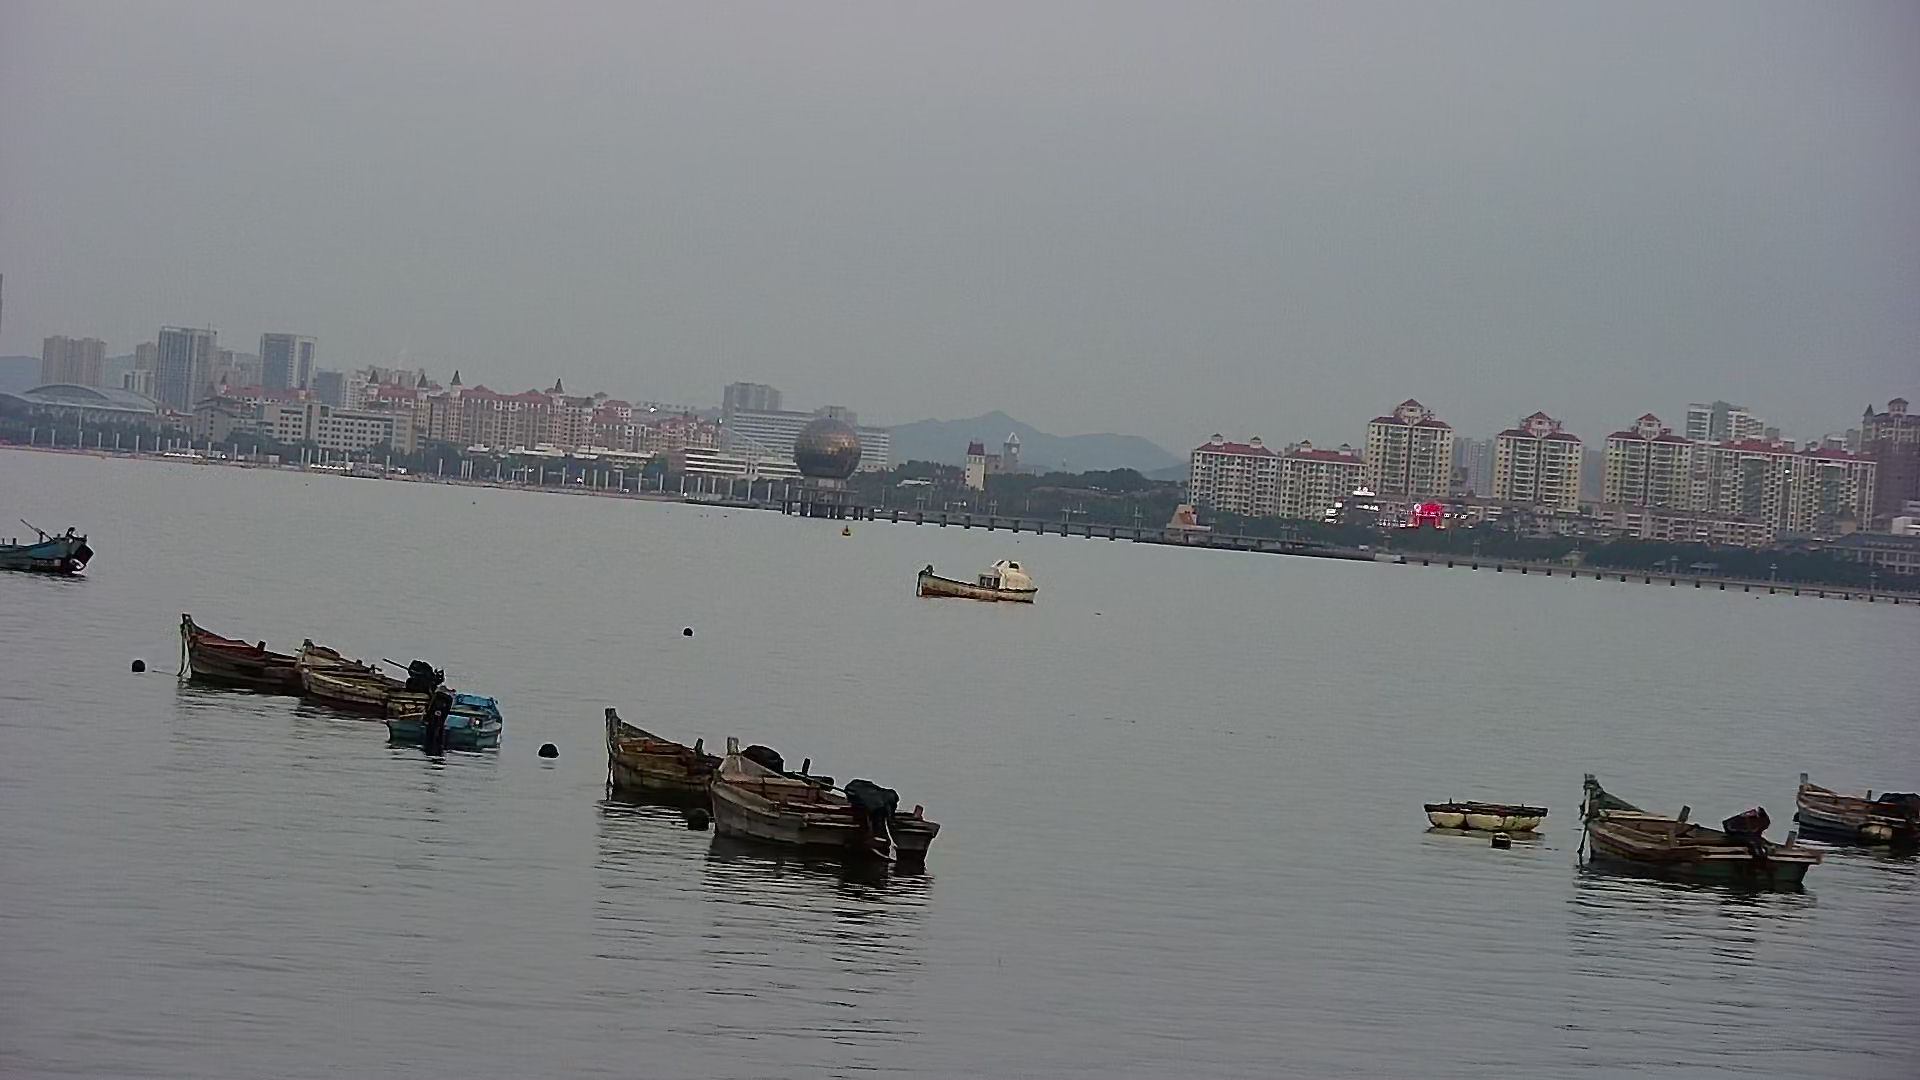ball: (117, 647, 152, 680), (541, 732, 567, 765), (1491, 829, 1516, 855)
boat: (1576, 764, 1826, 907), (712, 764, 957, 898), (595, 690, 835, 814), (175, 607, 357, 690), (1789, 752, 1920, 855), (909, 546, 1044, 612), (386, 708, 513, 760)
rubbish: (1416, 796, 1553, 836)
